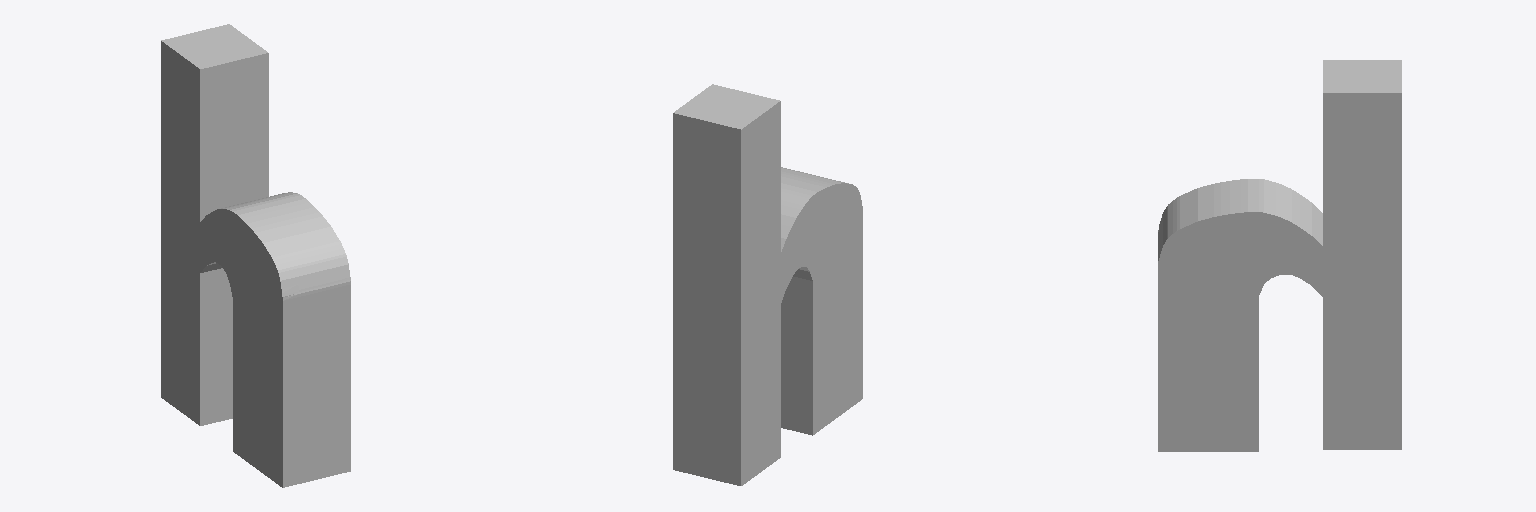
The model's file is letter7.obj.
3 views of the same model, side by side, from view 1: azimuth 30°, elevation 25°; view 2: azimuth 150°, elevation 25°; view 3: azimuth 270°, elevation 25° (orthographic).
Parts seen in each view (by area): view 1: pCube1; view 2: pCube1; view 3: pCube1.
Boxes of the visible parts, x1,y1,x2,y2 form: pCube1: [161, 24, 350, 487]; pCube1: [673, 84, 862, 485]; pCube1: [1158, 60, 1401, 451].
Bounding box in the file's own units: 1 × 5.01 × 3.08.